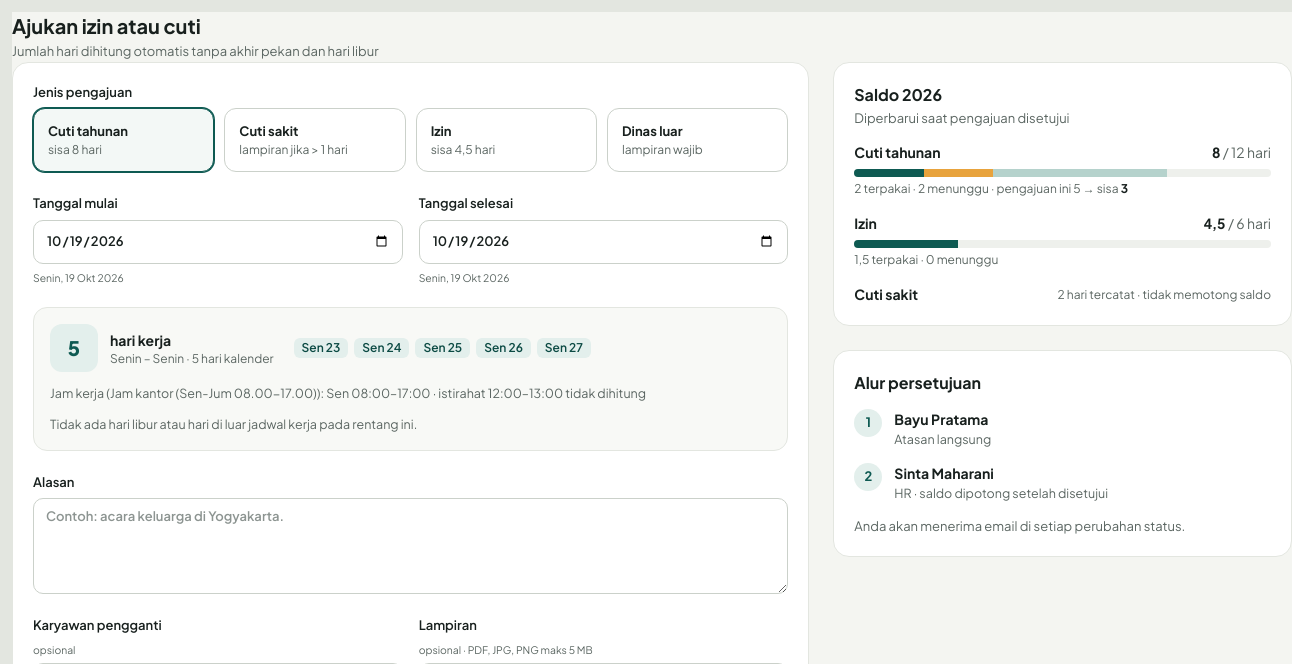
Scenario: LeaveRequestPage (H-08) › tanggal selesai sebelum mulai: pesan kesalahan, tanpa memanggil API
Type "2026-11-25" into the date field with test id "start" at (218, 242), box left=33, top=220, right=403, bottom=264
Wait 300 ms
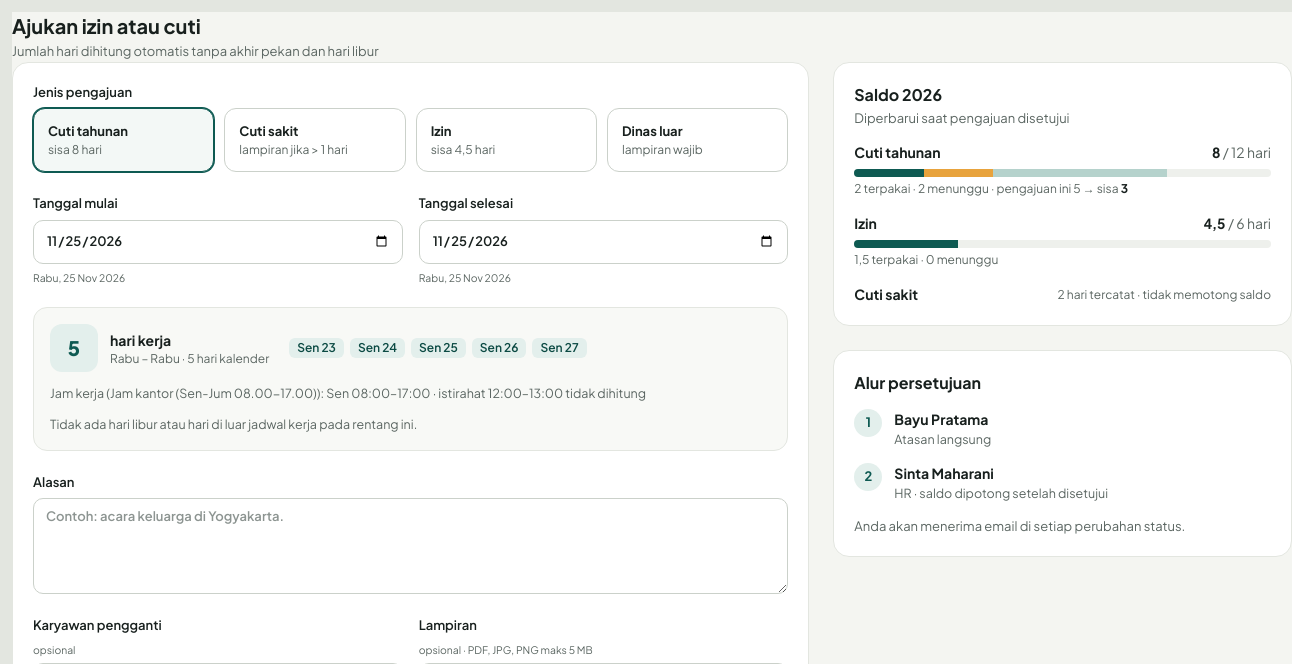
pilih tanggal selesai lebih awal dari mulai
Type "2026-11-20" into the date field with test id "end" at (604, 242), box left=419, top=220, right=788, bottom=264
Wait 300 ms
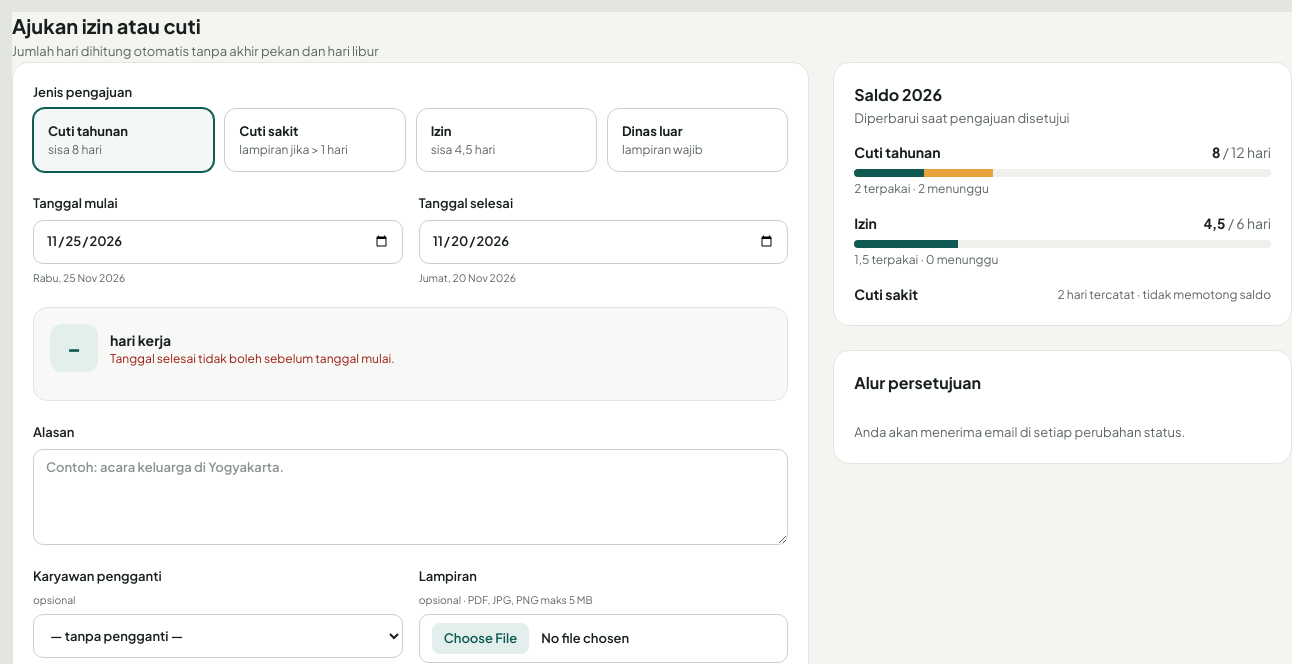
expect the element with test id "calc" shows "tidak boleh sebelum": met, box left=110, top=351, right=395, bottom=366
